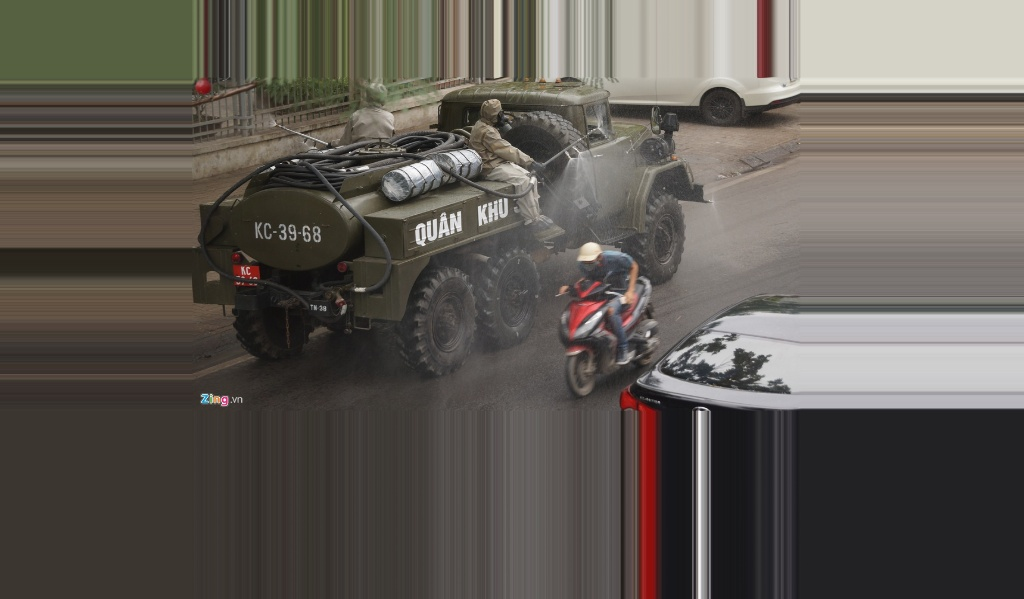plate: (229, 263, 264, 293)
